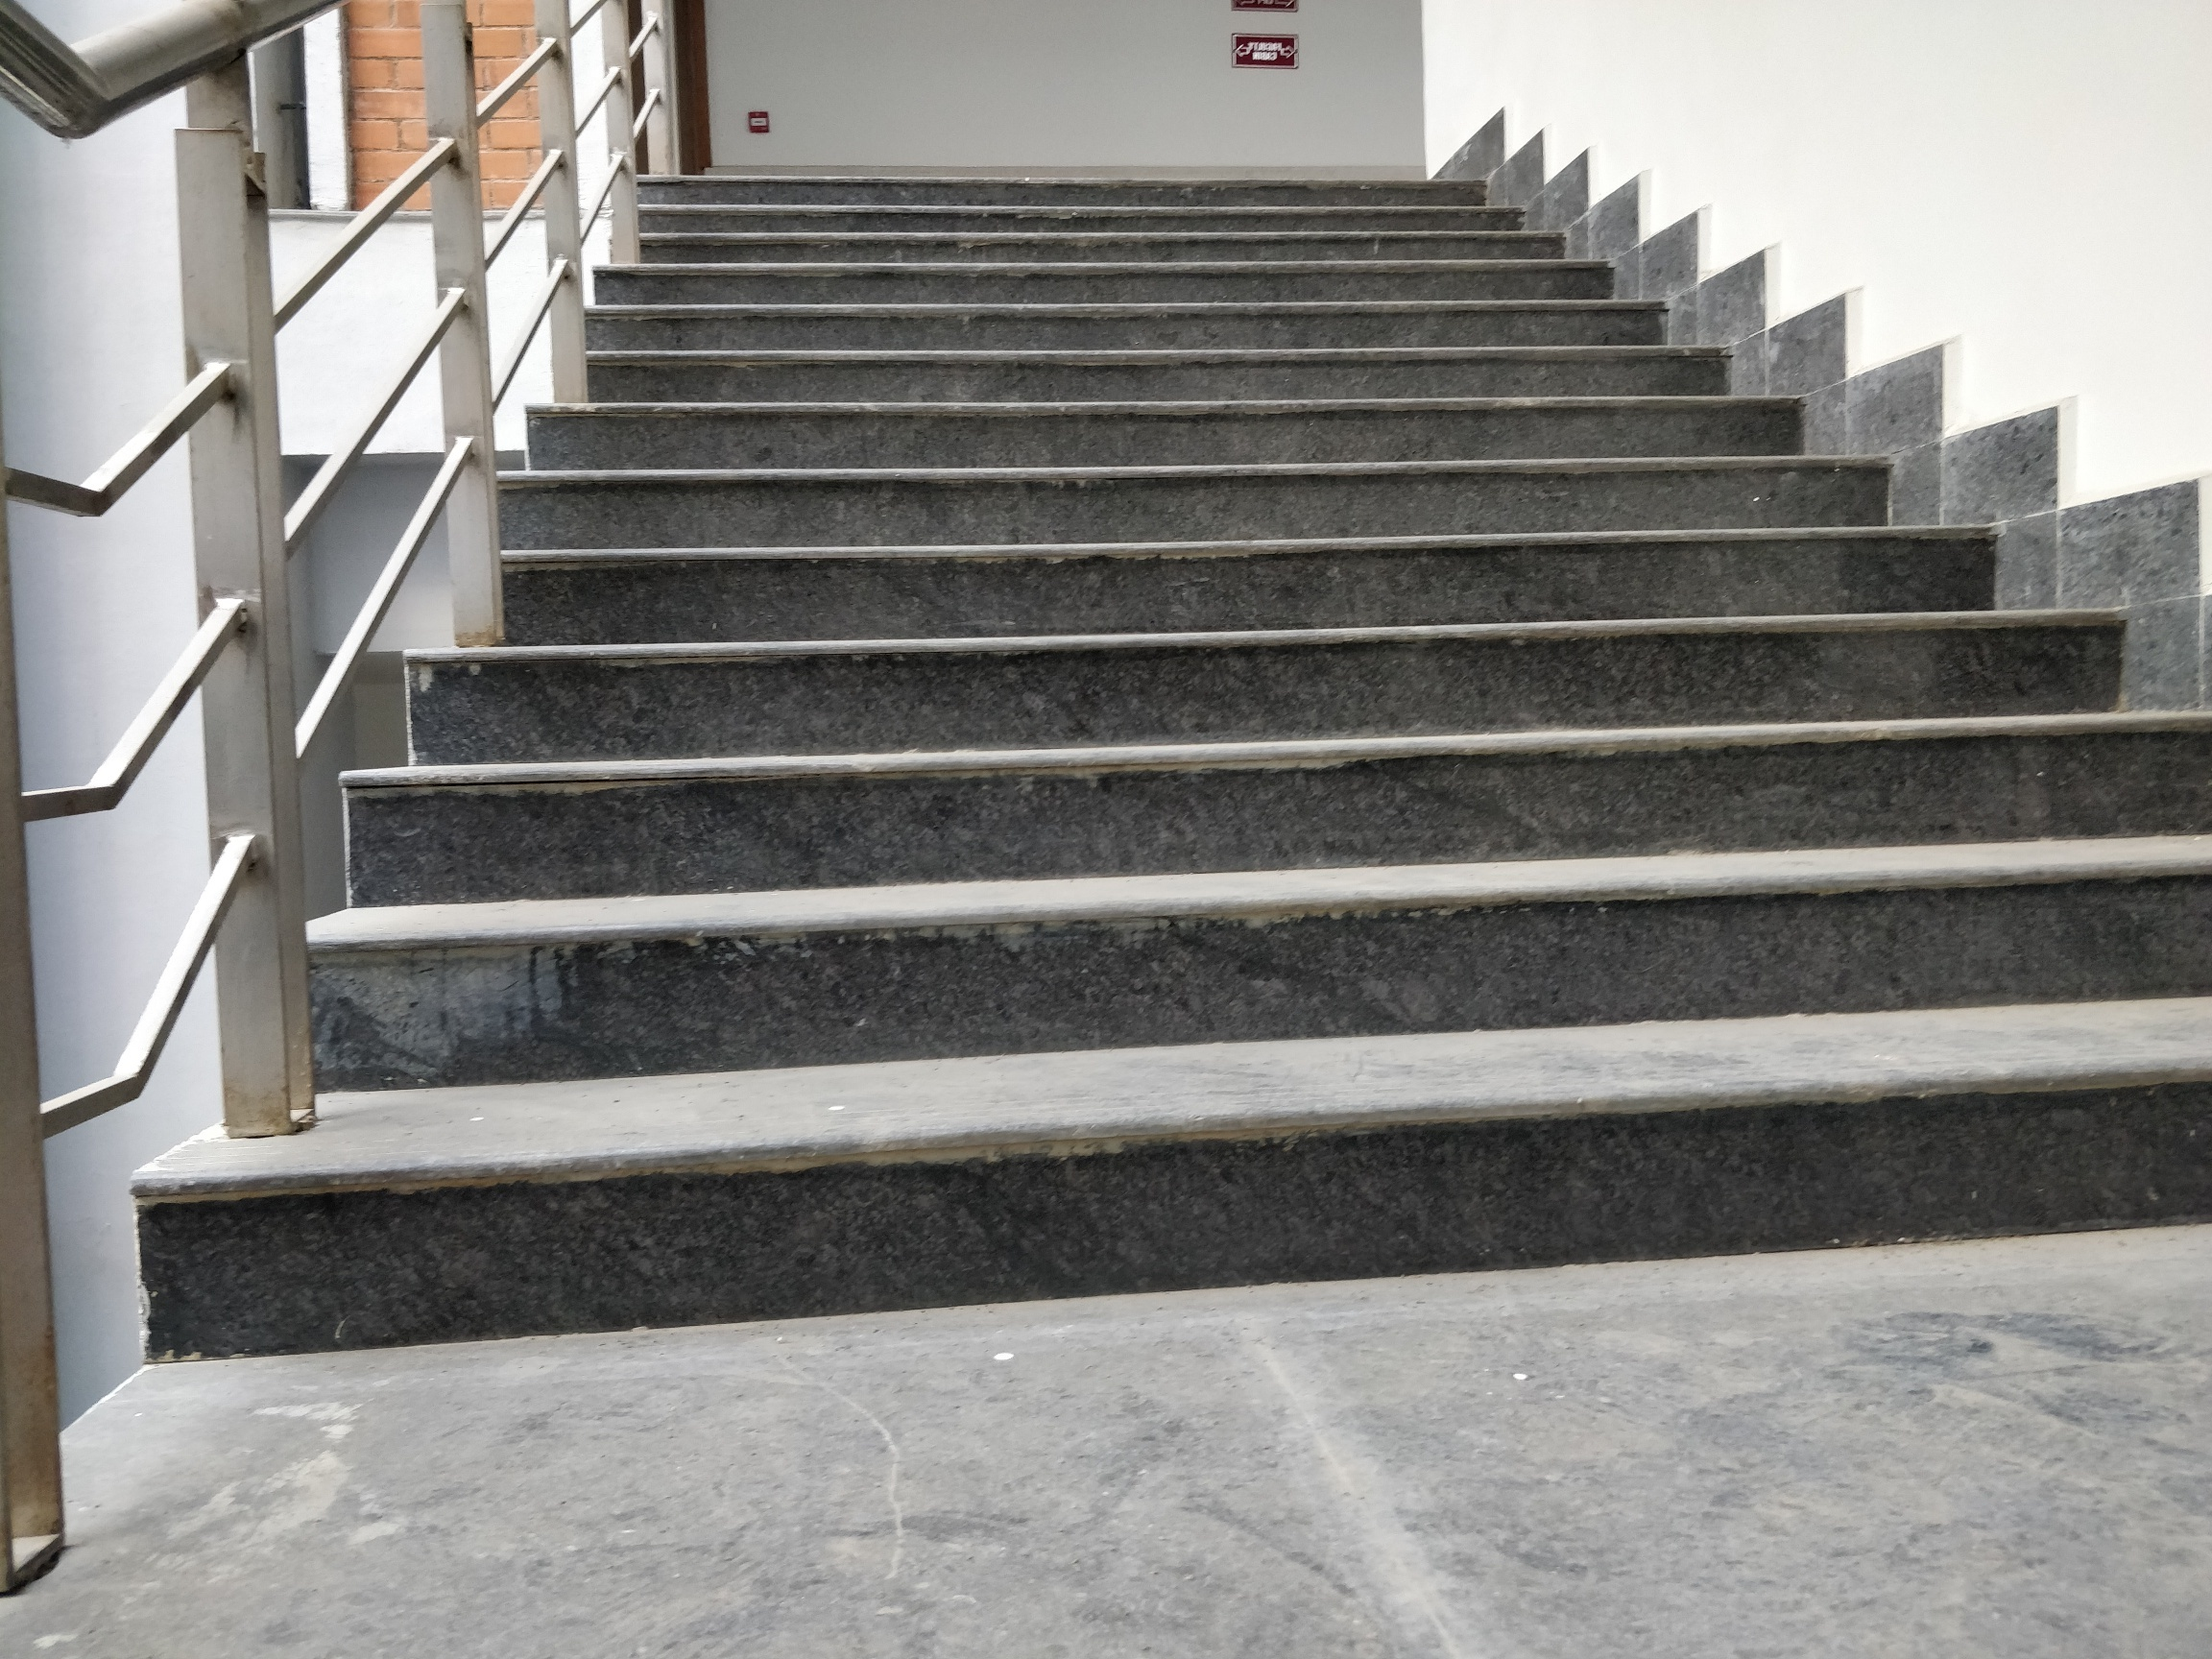stairs_up: (390, 153, 2212, 1281)
